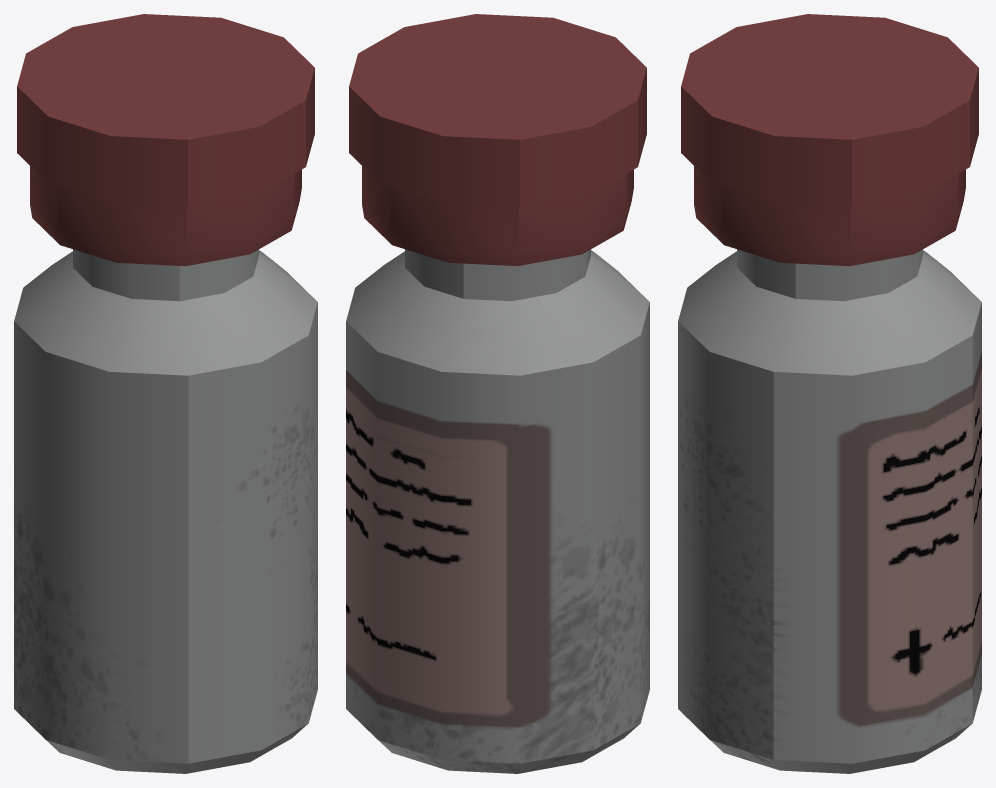
Rendered from Item_Vial.fbx.
The picture shows the model from 3 angles, left to right: view 1: azimuth 30°, elevation 25°; view 2: azimuth 150°, elevation 25°; view 3: azimuth 270°, elevation 25°; orthographic projection.
Visible parts, largest first — view 1: Vial; view 2: Vial; view 3: Vial.
Part boxes in pixels (x1=…): Vial: x1=14, y1=14, x2=317, y2=773; Vial: x1=346, y1=14, x2=649, y2=773; Vial: x1=678, y1=14, x2=981, y2=773.
Size of the model in its own units: 5.49 by 13.03 by 5.49.
